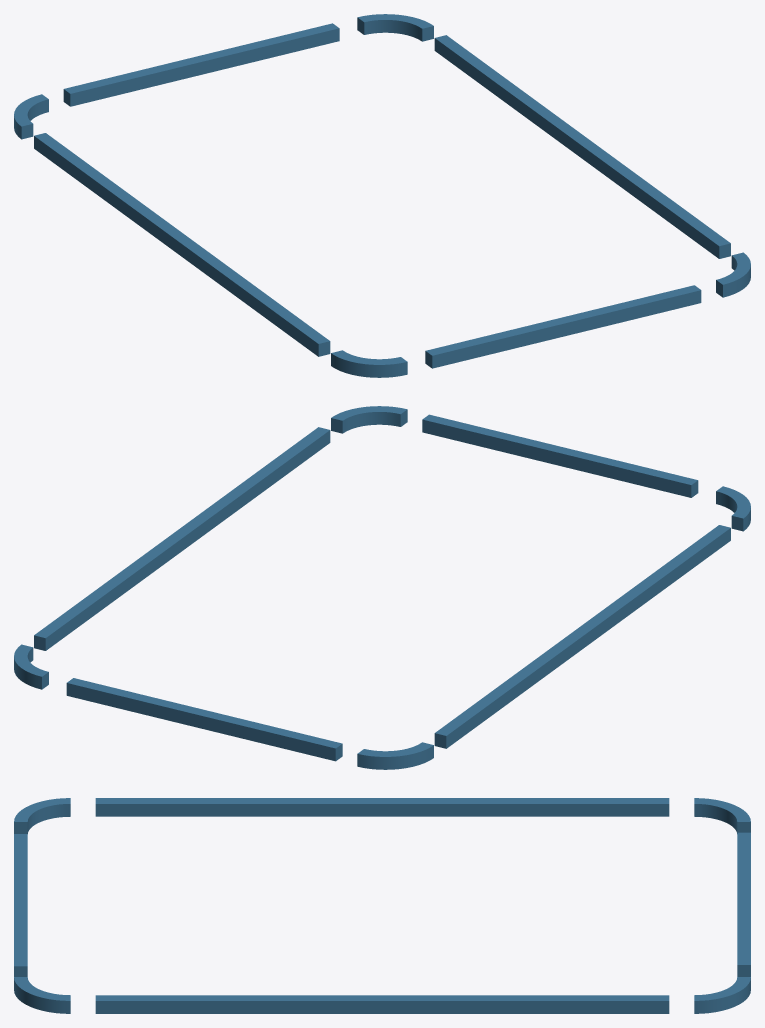
The model's file is marker.fbx.
3 views of the same model, one above another, from view 1: azimuth 30°, elevation 25°; view 2: azimuth 150°, elevation 25°; view 3: azimuth 270°, elevation 25° (orthographic).
Parts seen in each view (by area): view 1: Model; view 2: Model; view 3: Model.
Boxes of the visible parts, <box> form: Model: <box>14,14,750,377</box>; Model: <box>14,406,750,769</box>; Model: <box>14,798,750,1013</box>.
Size of the model in its own units: 1.34 by 0.04 by 2.06.
